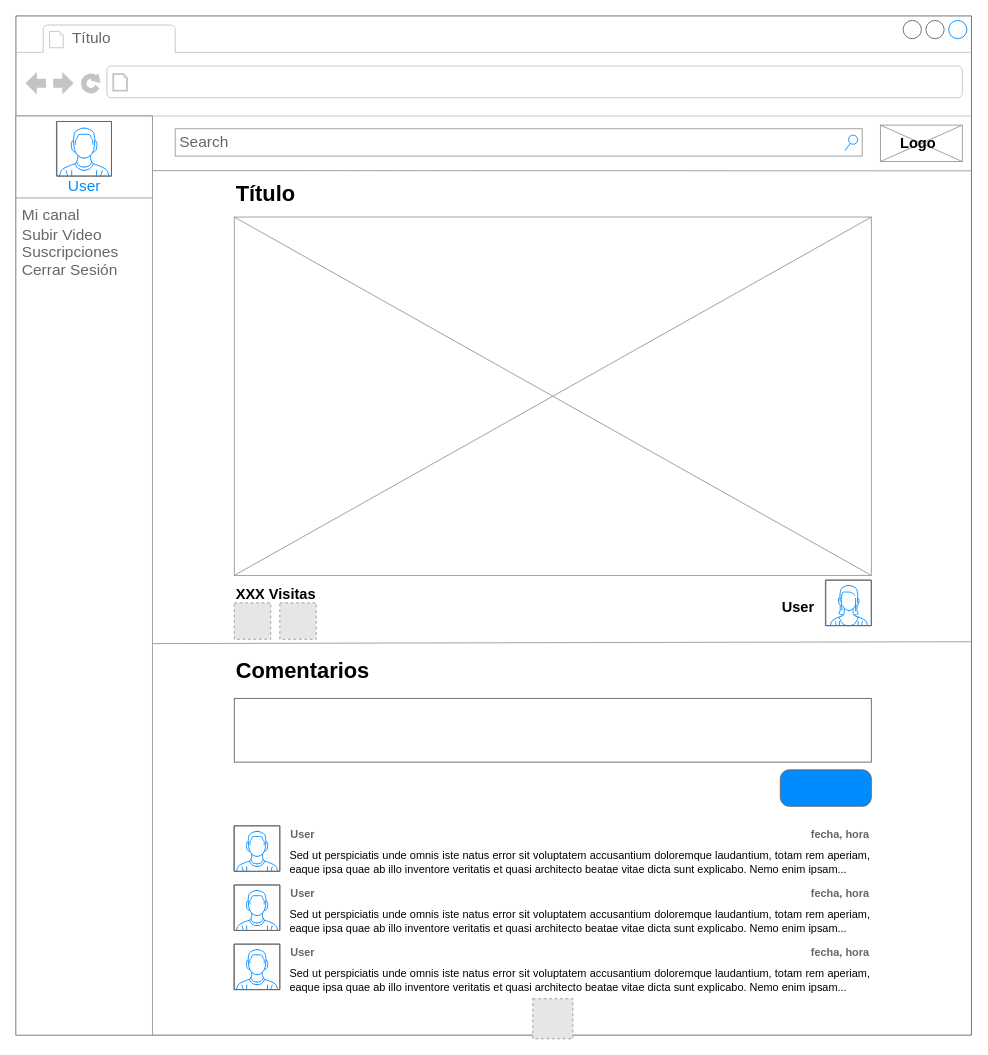
Image size: 988x1055. Some labels were removed from this diagram. Grey dashed boxes stand in for pictures. The shapes that lost their labels are listed below. From the top down, each one's centre as x and y in pixels, then its label:
At [247,82]: "https://www.tube.com".
At [825,787]: "Comentar".
